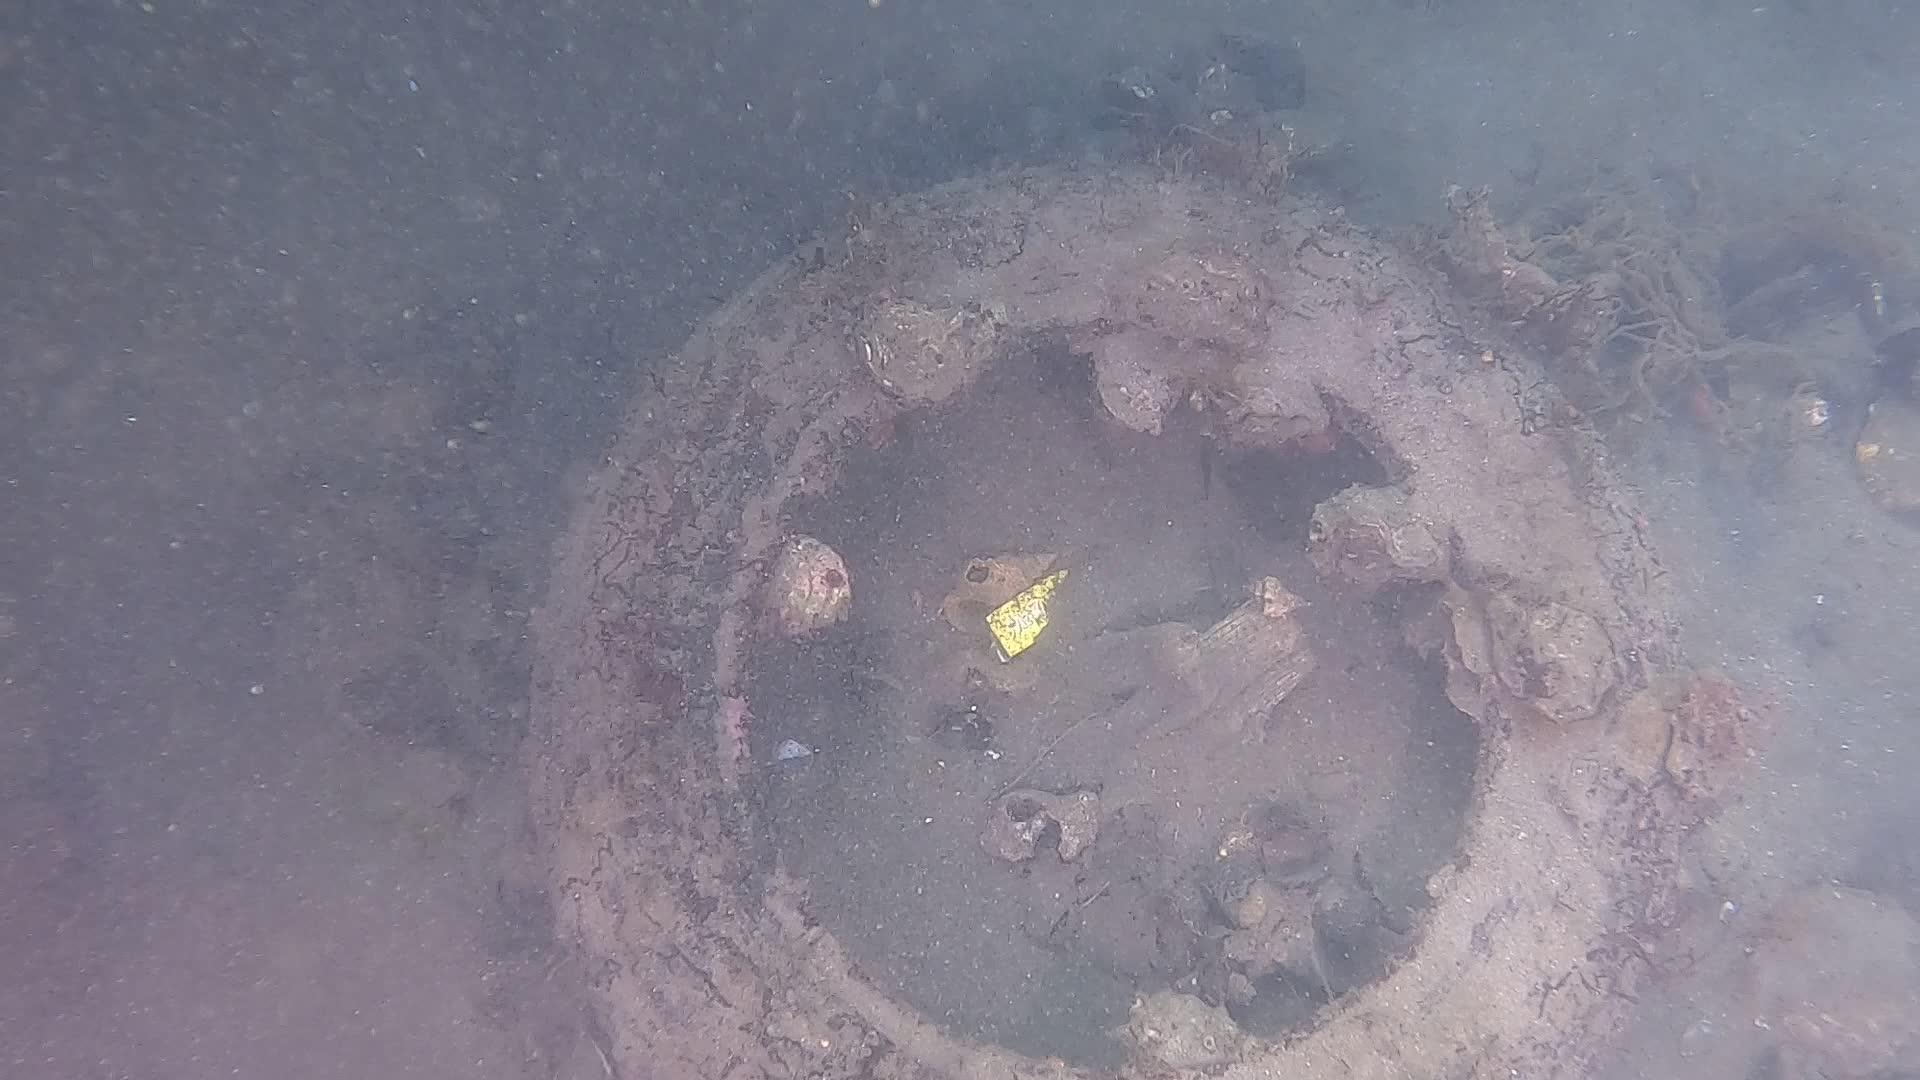tire: (520, 157, 1668, 1080)
